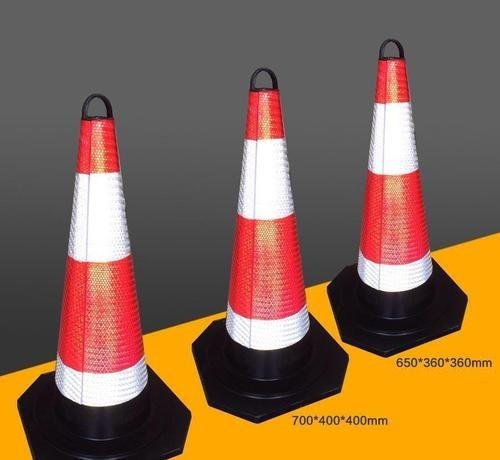cone_barrel: (35, 112, 162, 445), (208, 81, 323, 400), (339, 42, 452, 334)
